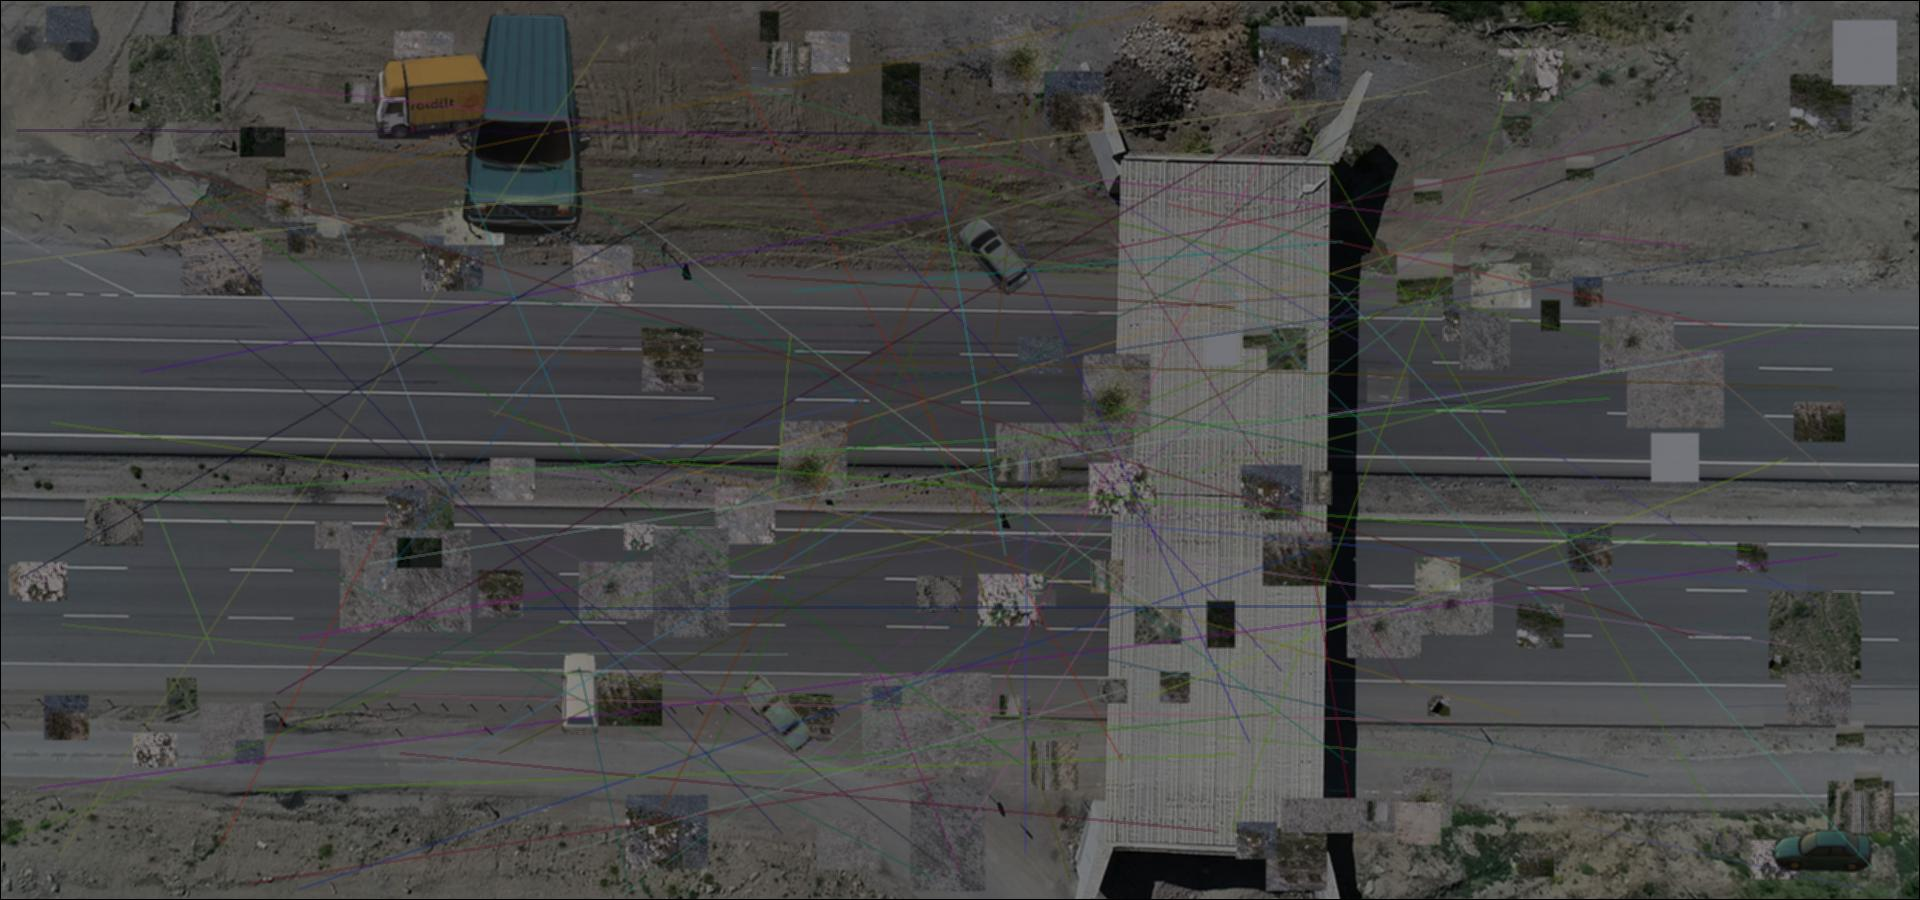arac: (440, 7, 596, 239), (370, 54, 489, 140), (956, 218, 1035, 296), (740, 672, 816, 752), (1771, 829, 1875, 872), (560, 651, 601, 733)
